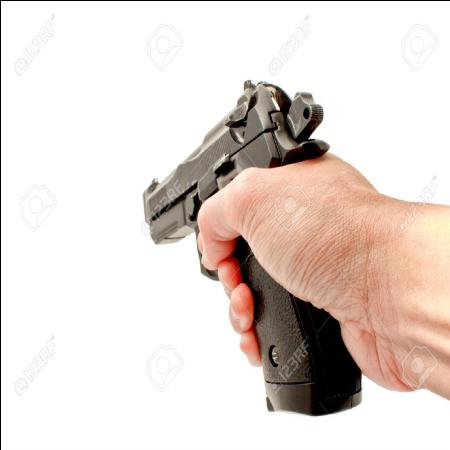Pistol: (140, 44, 368, 418)
